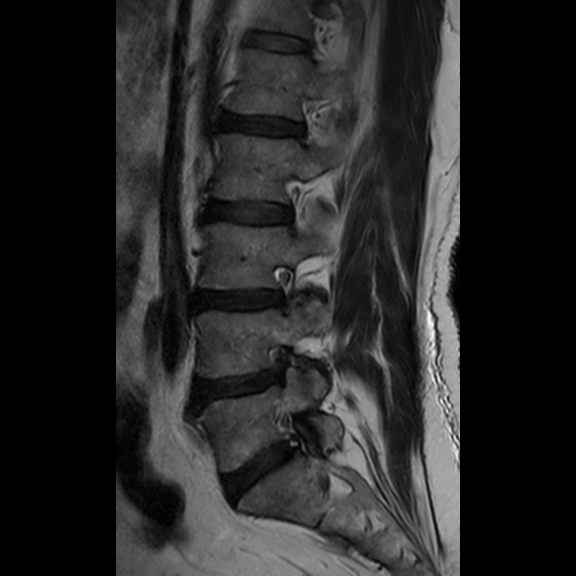RFS0: (265, 254, 303, 323)
RFS3: (256, 336, 309, 401)
